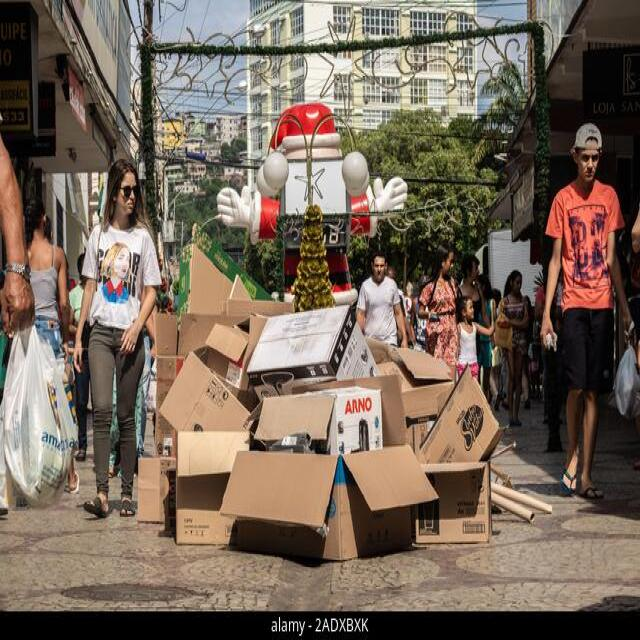cardboard: (168, 310, 355, 546), (365, 355, 497, 558), (186, 229, 235, 321), (140, 455, 172, 511)
plastic: (14, 345, 74, 504), (621, 345, 637, 414)
